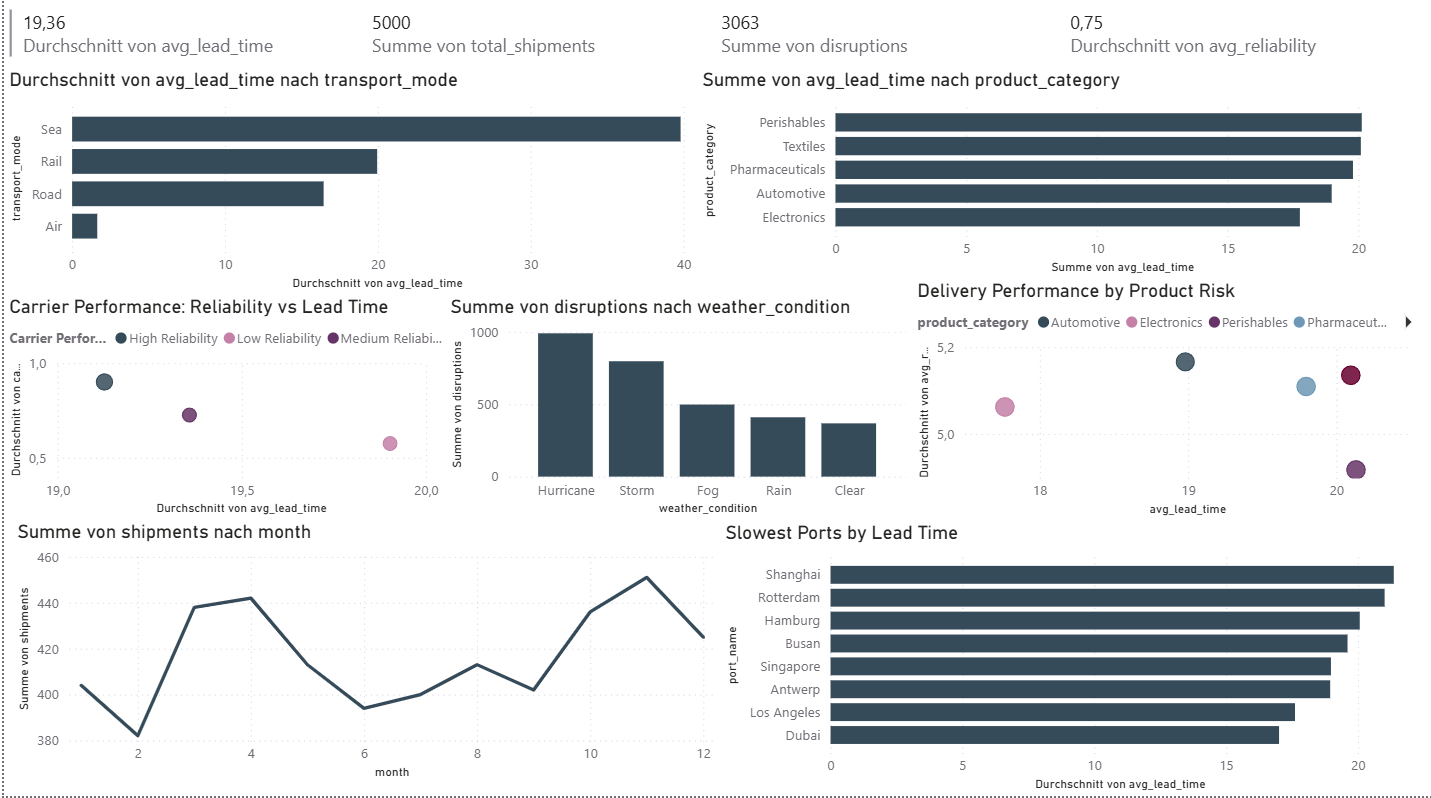

Layout of this report page (visuals, bound fields, positions):
{"tool":"powerbi","page":{"name":"Seite 1","canvas":[1280,720],"ordinal":0},"visuals":[{"type":"multiRowCard","fields":{"Values":["Avg(analytics v_kpi_overview.avg_lead_time)","Sum(analytics v_kpi_overview.total_shipments)","Sum(analytics v_kpi_overview.disruptions)","Avg(analytics v_kpi_overview.avg_reliability)"]},"box":[0,10.7,1272.5,56.4],"z":0},{"type":"lineChart","fields":{"Y":["Sum(analytics v_shipments_by_month.shipments)"],"Category":["analytics v_shipments_by_month.month"]},"box":[7.2,472.8,634,236.4],"z":1000},{"type":"barChart","fields":{"Category":["analytics v_lead_time_by_product.product_category"],"Y":["Sum(analytics v_lead_time_by_product.avg_lead_time)"]},"box":[620.6,68.1,651,189],"z":2000},{"type":"clusteredBarChart","fields":{"Category":["analytics v_lead_time_by_transport.transport_mode"],"Y":["Avg(analytics v_lead_time_by_transport.avg_lead_time)"]},"box":[0,68.1,620.6,203.3],"z":3000},{"type":"clusteredBarChart","title":"Slowest Ports by Lead Time","fields":{"Category":["analytics v_lead_time_by_port.port_name"],"Y":["Avg(analytics v_lead_time_by_port.avg_lead_time)"]},"box":[641.1,473.4,630.4,246.2],"z":4000},{"type":"columnChart","fields":{"Y":["Sum(analytics v_weather_disruptions.disruptions)"],"Category":["analytics v_weather_disruptions.weather_condition"]},"box":[394.8,271.7,418.2,201.7],"z":5000},{"type":"scatterChart","title":"Delivery Performance by Product Risk","fields":{"Series":["analytics v_risk_by_product.product_category"],"Y":["Avg(analytics v_risk_by_product.avg_risk)"],"X":["analytics v_risk_by_product.avg_lead_time"],"Size":["Sum(analytics v_risk_by_product.shipments)"]},"box":[813,256.8,458.5,216.5],"z":6000},{"type":"scatterChart","title":"Carrier Performance: Reliability vs Lead Time","fields":{"X":["Avg(analytics v_reliability_analysis.avg_lead_time)"],"Y":["Avg(analytics v_reliability_analysis.carrier_reliability_score)"],"Size":["Sum(analytics v_reliability_analysis.shipments)"],"Series":["analytics v_reliability_analysis.carrier_reliability_score (Gruppen)"]},"box":[0,271.7,394.8,201.7],"z":7000}]}

Visuals, with their boxes in screenshot pixels (x1, y1, x2, y2), scaled from the page's 1280x720 canvas onto the 1431x798 screenshot:
multiRowCard - Avg(analytics v_kpi_overview.avg_lead_time) x Sum(analytics v_kpi_overview.total_shipments): l=0, t=12, r=1423, b=74
lineChart - Sum(analytics v_shipments_by_month.shipments) x analytics v_shipments_by_month.month: l=8, t=524, r=717, b=786
barChart - analytics v_lead_time_by_product.product_category x Sum(analytics v_lead_time_by_product.avg_lead_time): l=694, t=75, r=1422, b=285
clusteredBarChart - analytics v_lead_time_by_transport.transport_mode x Avg(analytics v_lead_time_by_transport.avg_lead_time): l=0, t=75, r=694, b=301
"Slowest Ports by Lead Time" clusteredBarChart: l=717, t=525, r=1421, b=797
columnChart - Sum(analytics v_weather_disruptions.disruptions) x analytics v_weather_disruptions.weather_condition: l=441, t=301, r=909, b=525
"Delivery Performance by Product Risk" scatterChart: l=909, t=285, r=1421, b=525
"Carrier Performance: Reliability vs Lead Time" scatterChart: l=0, t=301, r=441, b=525
